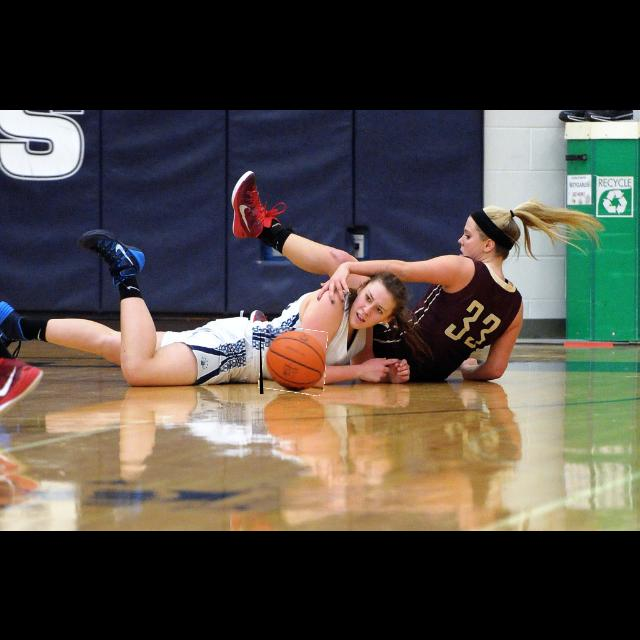Football: (260, 326, 326, 394)
